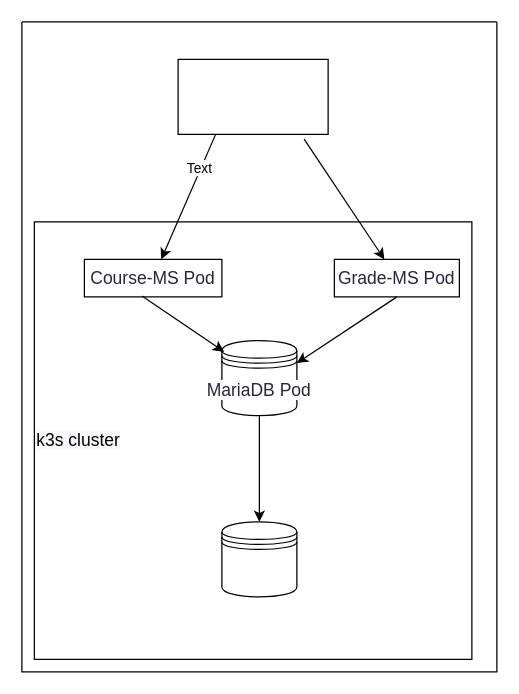
Some shapes in this 519 by 694 pixel diagram are drawn without their labels. Here are the shapes that lost their labels. From the top down, the centre of each, then its label:
At point (252, 96): "moodle-ci Pod (Jenkins)".
At point (259, 559): "PVC mariadb-data".
